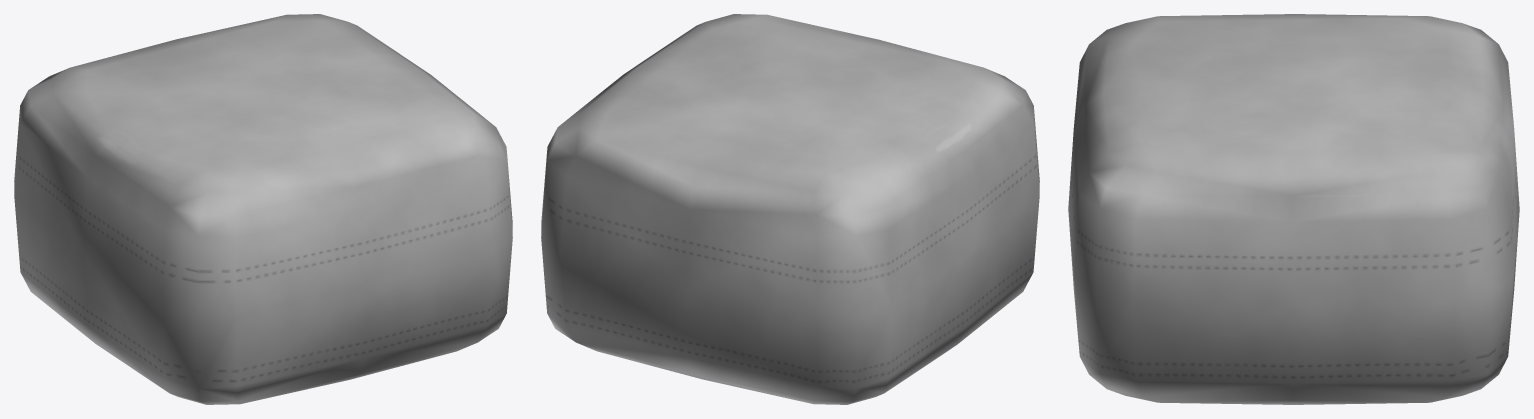
Rendered from LeftUpperArm_C1.fbx.
3 views of the same model, side by side, from view 1: azimuth 30°, elevation 25°; view 2: azimuth 150°, elevation 25°; view 3: azimuth 270°, elevation 25° (orthographic). The views are drawn at different scales.
Parts seen in each view (by area): view 1: Civ_RemeraEstampa_LeftUpperArm_C1; view 2: Civ_RemeraEstampa_LeftUpperArm_C1; view 3: Civ_RemeraEstampa_LeftUpperArm_C1.
Part boxes in pixels (left/top/right/bottom): Civ_RemeraEstampa_LeftUpperArm_C1: left=14, top=14, right=512, bottom=404; Civ_RemeraEstampa_LeftUpperArm_C1: left=541, top=14, right=1039, bottom=404; Civ_RemeraEstampa_LeftUpperArm_C1: left=1068, top=14, right=1519, bottom=404.
Bounding box in the file's own units: 1.22 × 0.7543 × 1.22.
